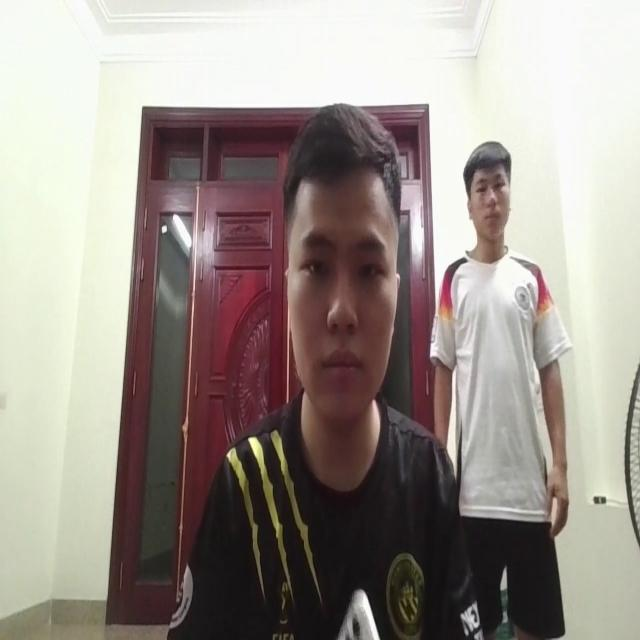extra_person: (430, 126, 573, 614)
student: (194, 92, 451, 640)
